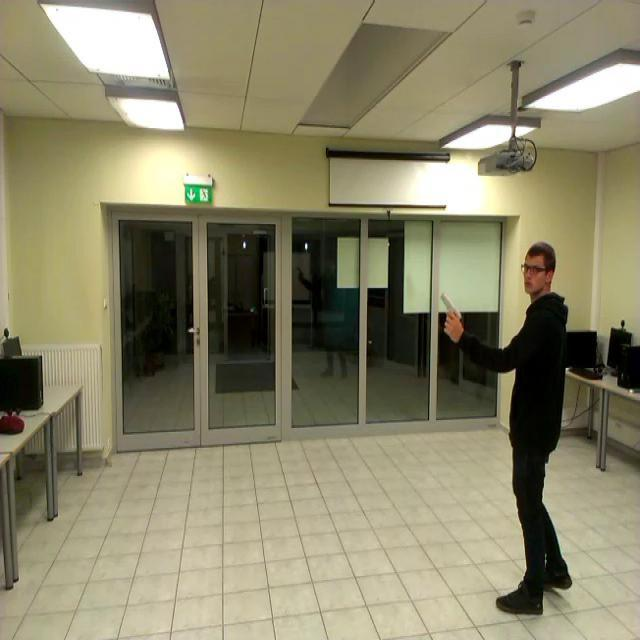weapon: (440, 293, 461, 336)
